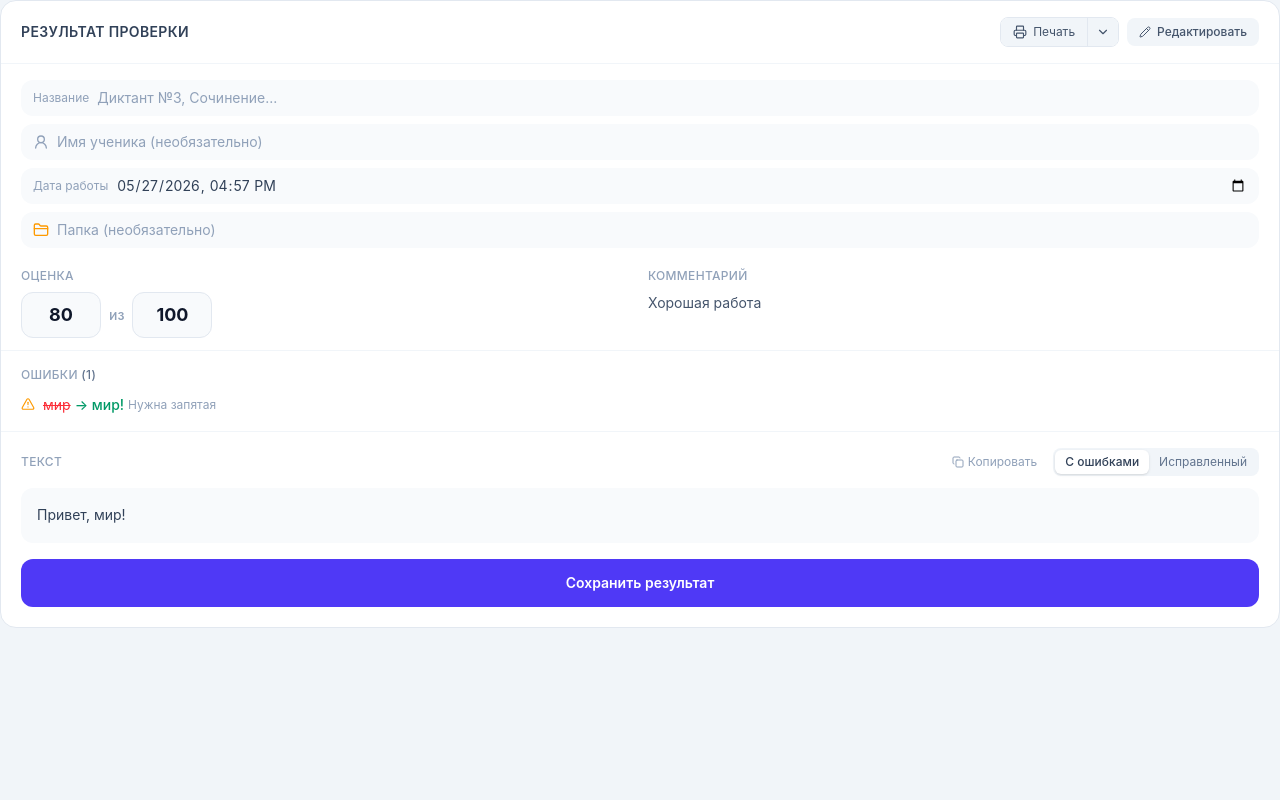
ResultPanel — редактирование › enters edit mode on button click
The width and height of the screenshot is (1280, 800).
Click the button "Редактировать" at (1193, 32), box [1127,18,1259,46]
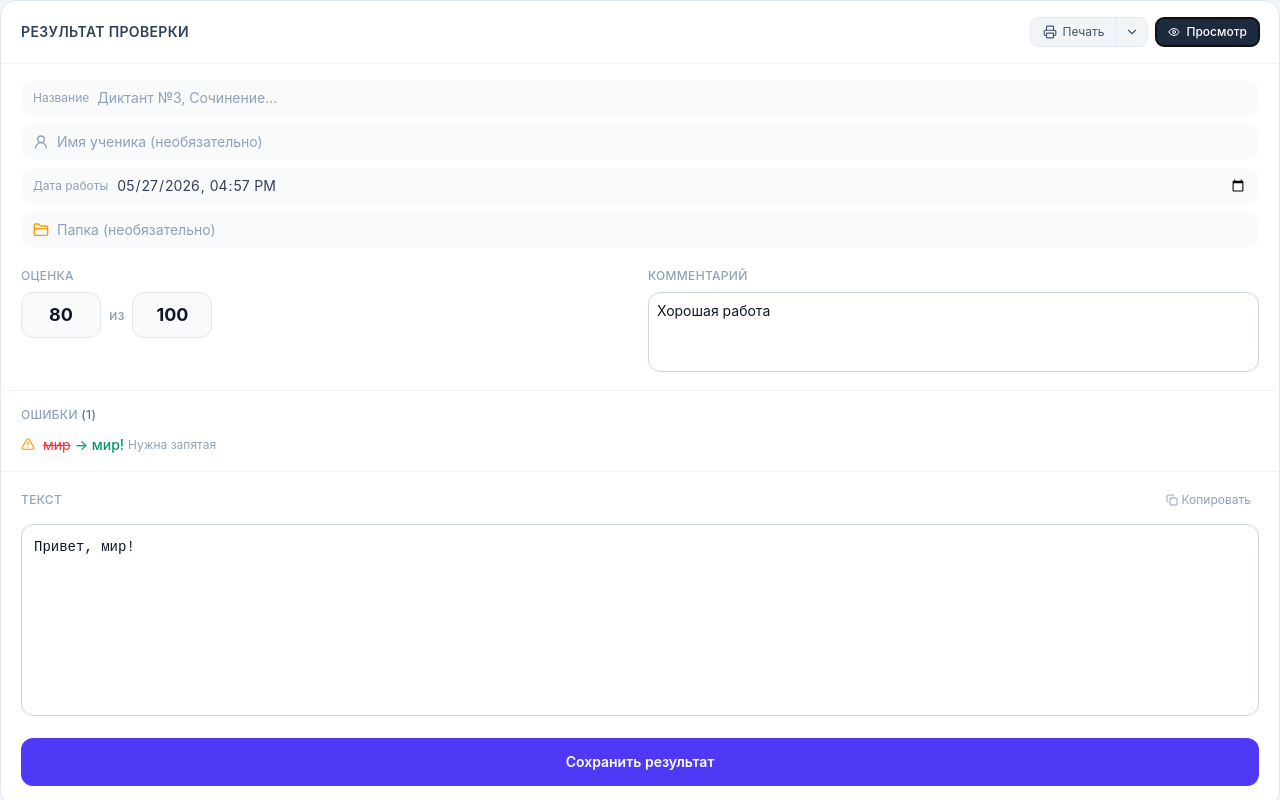
Expected: the button "Просмотр" is shown, [1156,18,1259,46]
